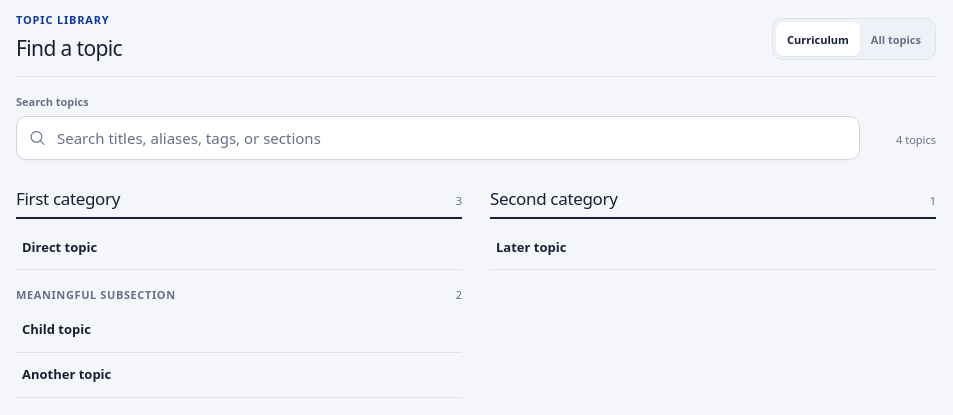
Test: TopicsBrowser › filters labels, category/subsection context, aliases, and removes empty branches
Type "beta" into the search field labelled "Search topics" at (438, 138), box top-left (16, 116), bottom-right (860, 160)
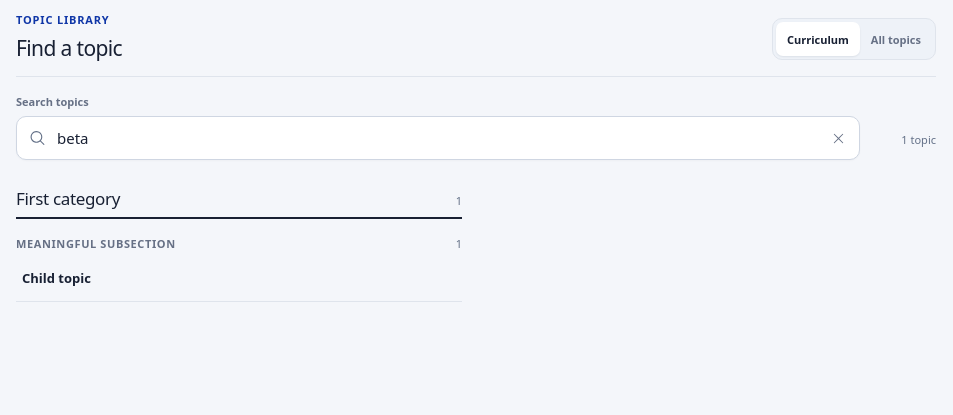
Check: the link "Child topic" is shown, box top-left (22, 269), bottom-right (91, 287)
Check: the link "Direct topic" is gone
Check: the heading "Second category" is gone
Replace the text in the search field labelled "Search topics" with "first category" at (438, 138), box top-left (16, 116), bottom-right (860, 160)
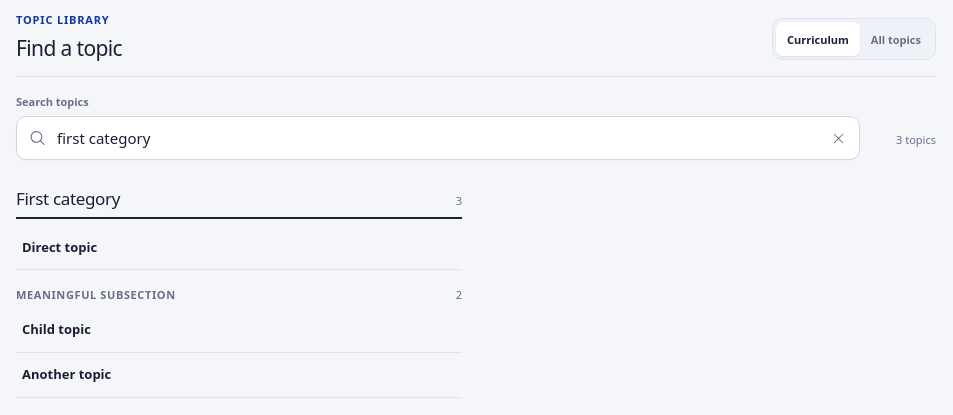
Check: the link "Child topic" is shown, box top-left (22, 320), bottom-right (91, 338)
Check: the link "Direct topic" is shown, box top-left (22, 238), bottom-right (97, 256)
